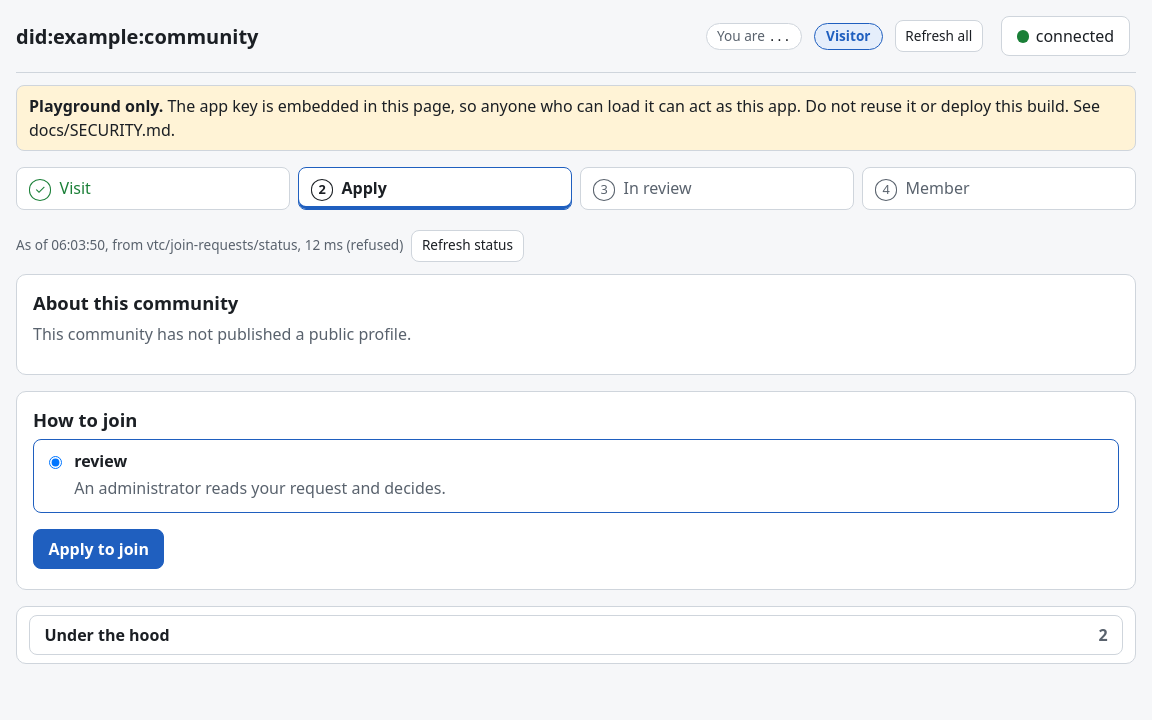
Test: visitor › sends the request once, toasts, re-reads the status and lands on In review
The image size is (1152, 720).
What coordinates should you click on to do the following:
click the button "Apply to join"
I would click on:
 (99, 549)
Its box is 33,528 -> 164,569.
(page scrolled)
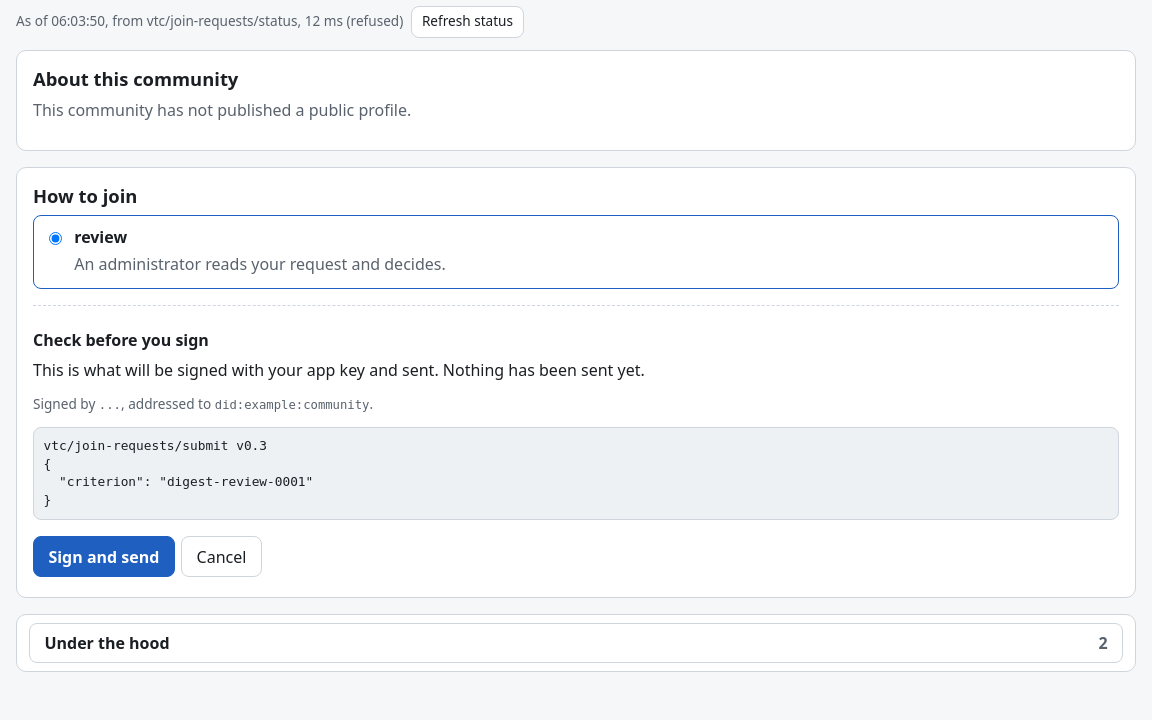
What coordinates should you click on to do the following:
click the button "Sign and send"
I would click on:
 (104, 556)
Its box is 33,536 -> 175,577.
(page scrolled)
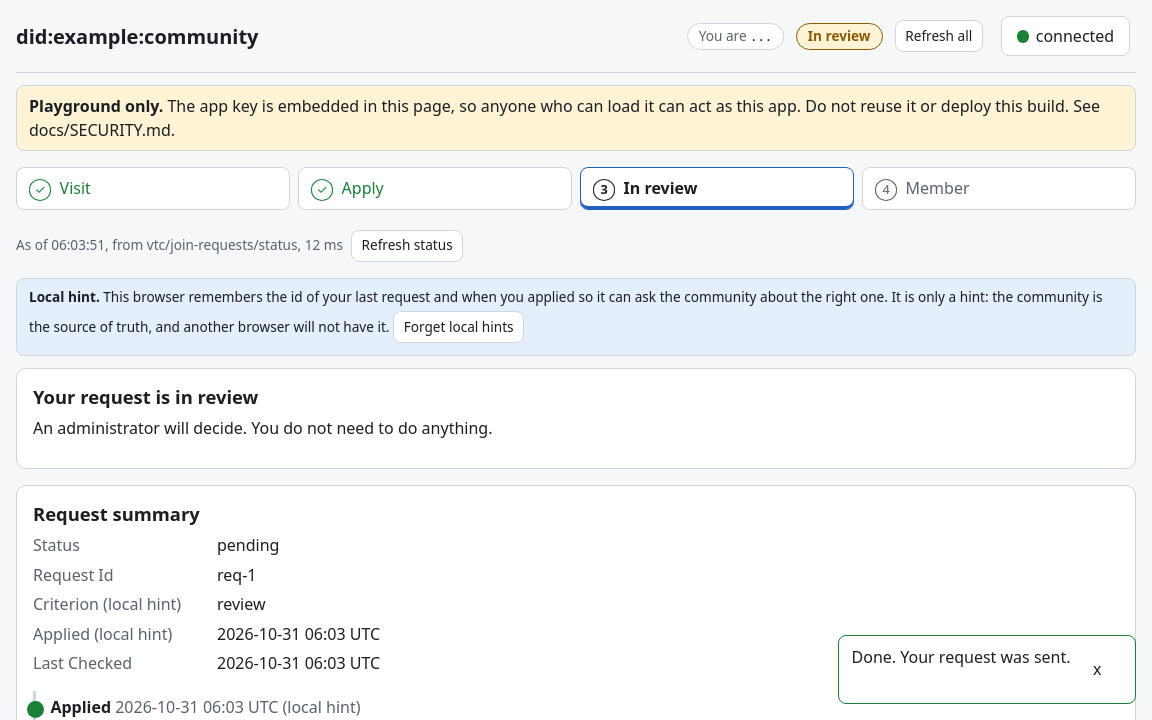
expect the list item "3 In review" is shown: met, box 580,167 -> 854,210
expect the message "In review" is shown: met, box 796,23 -> 883,50
